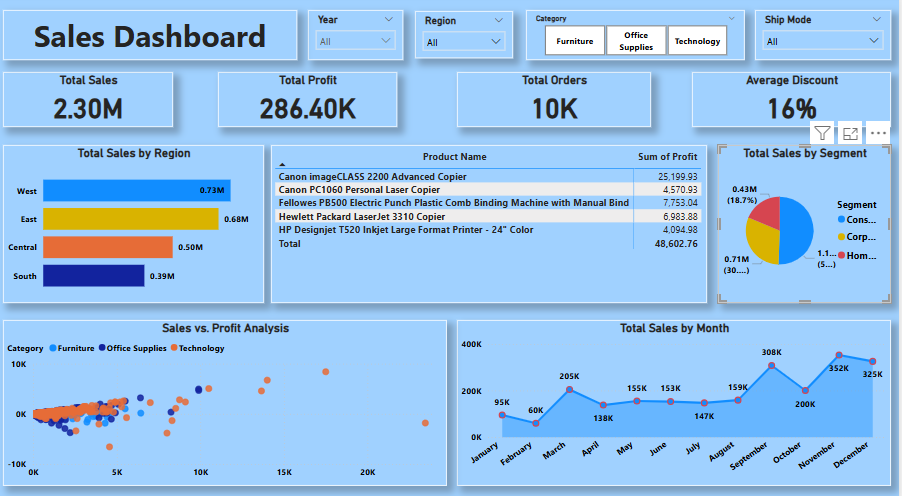

This screenshot's page, from the dashboard's own definition file:
{"tool":"powerbi","page":{"name":"Page 1","canvas":[1280,720],"ordinal":0},"visuals":[{"type":"barChart","title":"Total Sales by Region","fields":{"Y":["Sum(Sheet1.Sales)"],"Category":["Sheet1.Region"]},"box":[11.3,212.6,369.9,223.9],"z":0},{"type":"pivotTable","fields":{"Rows":["Sheet1.Product Name"],"Values":["Sum(Sheet1.Profit)"]},"box":[391.2,212.6,618,223.9],"z":1000},{"type":"lineChart","title":"Total  Sales by Month","fields":{"Category":["Sheet1.Order Date.Variation.Date Hierarchy.Month"],"Y":["Sum(Sheet1.Sales)"]},"box":[654.8,460.6,615.1,235.3],"z":2000},{"type":"scatterChart","title":"Sales vs. Profit Analysis","fields":{"X":["Sum(Sheet1.Sales)"],"Y":["Sum(Sheet1.Profit)"],"Category":["Sheet1.Order ID"],"Series":["Sheet1.Category"],"Size":["Sum(Sheet1.Discount)"]},"box":[11.3,460.6,629.3,235.3],"z":3000},{"type":"pieChart","title":"Total Sales by Segment","fields":{"Y":["Sum(Sheet1.Sales)"],"Category":["Sheet1.Segment"]},"box":[1024.7,212.6,245.2,223.9],"z":4000},{"type":"card","title":"Total Sales","fields":{"Values":["Sum(Sheet1.Sales)"]},"box":[11.3,109.1,240.9,78],"z":5000},{"type":"card","title":"Total Profit","fields":{"Values":["Sum(Sheet1.Profit)"]},"box":[316.1,109.1,253.7,78],"z":6000},{"type":"card","title":"Total Orders","fields":{"Values":["CountNonNull(Sheet1.Order ID)"]},"box":[654.8,109.1,275,78],"z":7000},{"type":"card","title":"Average Discount","fields":{"Values":["Avg(Sheet1.Discount)"]},"box":[987.9,109.1,282,78],"z":8000},{"type":"slicer","fields":{"Values":["Sheet1.Region"]},"box":[595.3,22.7,138.9,66.6],"z":9000},{"type":"slicer","fields":{"Values":["Sheet1.Category"]},"box":[752.6,21.3,310.4,70.9],"z":10000},{"type":"slicer","fields":{"Values":["Sheet1.Ship Mode"]},"box":[1077.2,21.3,192.8,70.9],"z":11000},{"type":"slicer","fields":{"Values":["Sheet1.Order Date.Variation.Date Hierarchy.Year"]},"box":[443.6,21.3,134.6,70.9],"z":12000},{"type":"textbox","box":[11.3,21.3,416.7,70.9],"z":13000}]}

Visuals, with their boxes in screenshot pixels (x1, y1, x2, y2), scaled from the page's 1280x720 canvas onto the 902x496 screenshot:
"Total Sales by Region" barChart: bbox=(8, 146, 269, 301)
pivotTable - Sheet1.Product Name x Sum(Sheet1.Profit): bbox=(276, 146, 711, 301)
"Total  Sales by Month" lineChart: bbox=(461, 317, 895, 479)
"Sales vs. Profit Analysis" scatterChart: bbox=(8, 317, 451, 479)
"Total Sales by Segment" pieChart: bbox=(722, 146, 895, 301)
"Total Sales" card: bbox=(8, 75, 178, 129)
"Total Profit" card: bbox=(223, 75, 402, 129)
"Total Orders" card: bbox=(461, 75, 655, 129)
"Average Discount" card: bbox=(696, 75, 895, 129)
slicer - Sheet1.Region: bbox=(420, 16, 517, 62)
slicer - Sheet1.Category: bbox=(530, 15, 749, 64)
slicer - Sheet1.Ship Mode: bbox=(759, 15, 895, 64)
slicer - Sheet1.Order Date.Variation.Date Hierarchy.Year: bbox=(313, 15, 407, 64)
textbox: bbox=(8, 15, 302, 64)
